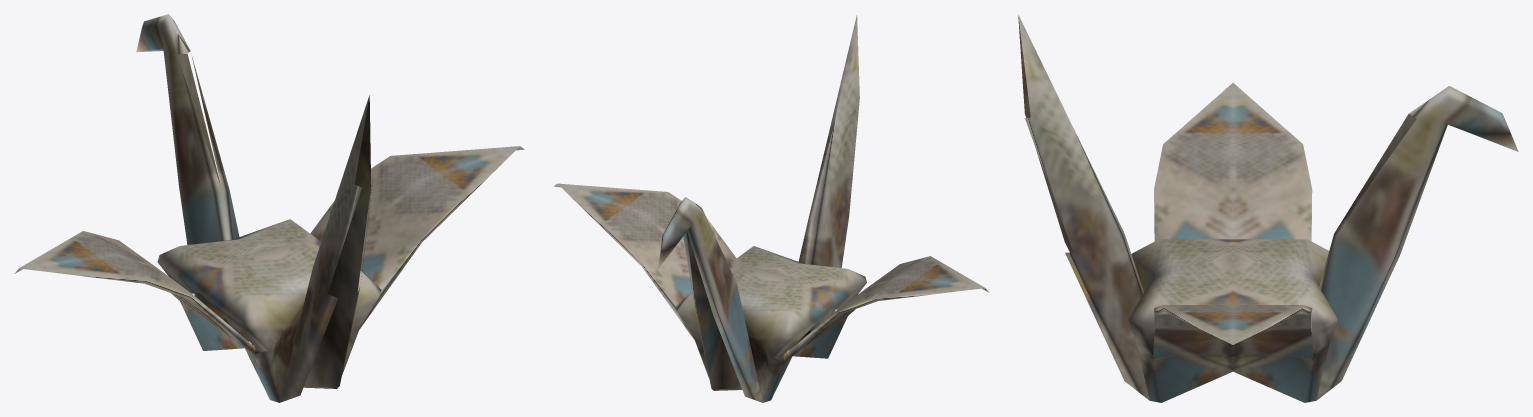
File: paperMike.glb
3 renders of one model, left to right at view 1: azimuth 30°, elevation 25°; view 2: azimuth 150°, elevation 25°; view 3: azimuth 270°, elevation 25°, orthographic. The views are drawn at different scales.
Visible parts, largest first — view 1: paperMike; view 2: paperMike; view 3: paperMike.
Part boxes in pixels (x1,y1,x2,y2): paperMike: (14,14,524,402); paperMike: (554,15,989,402); paperMike: (1018,15,1518,402).
Bounding box in the file's own units: 0.4273 × 0.277 × 0.3381.
1 material, 1 textured.
